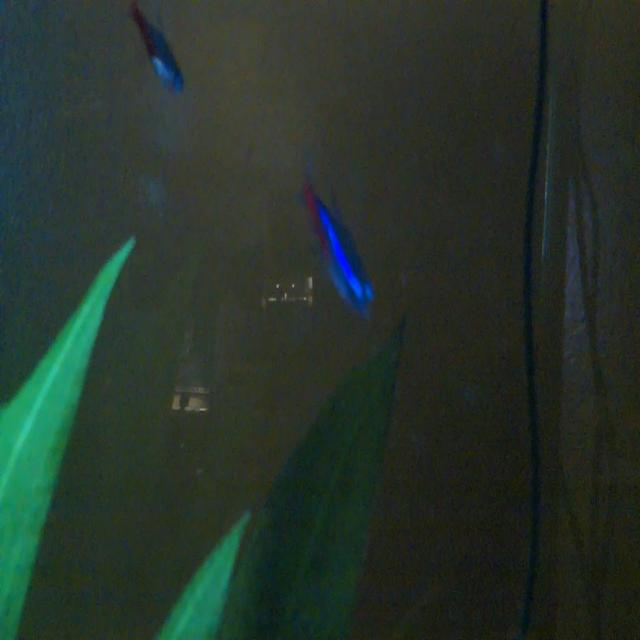fish: (287, 150, 379, 327), (122, 6, 194, 102)
